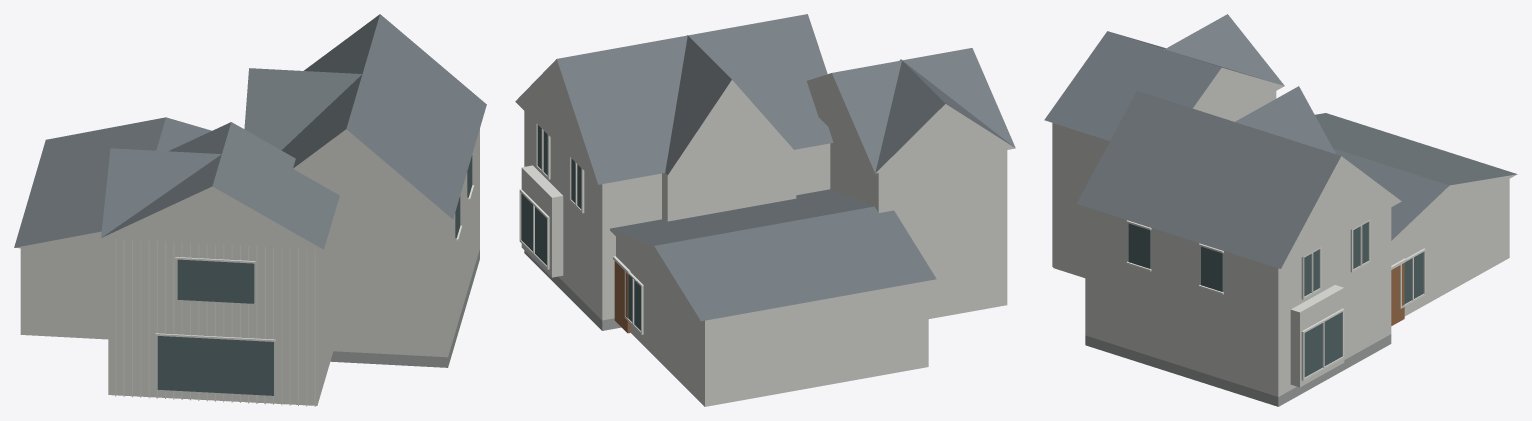
The model's file is merner-42-john-20261008-study.glb.
3 renders of one model, left to right at view 1: azimuth 30°, elevation 25°; view 2: azimuth 150°, elevation 25°; view 3: azimuth 270°, elevation 25°, orthographic. The views are drawn at different scales.
Parts seen in each view (by area): view 1: 42-john-roof.002, 42-john-wall.002, 42-john-glass.002, 42-john-trim.002, 42-john-foundation.002; view 2: 42-john-roof.002, 42-john-wall.002, 42-john-glass.002, 42-john-trim.002, 42-john-door.002, 42-john-foundation.002; view 3: 42-john-roof.002, 42-john-wall.002, 42-john-glass.002, 42-john-foundation.002, 42-john-trim.002, 42-john-door.002.
Boxes of the visible parts, left/top/right/bottom form: 42-john-roof.002: left=14, top=14, right=486, bottom=252; 42-john-wall.002: left=20, top=129, right=479, bottom=405; 42-john-glass.002: left=157, top=155, right=472, bottom=395; 42-john-trim.002: left=115, top=185, right=474, bottom=406; 42-john-foundation.002: left=330, top=249, right=479, bottom=367; 42-john-roof.002: left=515, top=14, right=1015, bottom=321; 42-john-wall.002: left=521, top=111, right=1007, bottom=406; 42-john-glass.002: left=521, top=125, right=643, bottom=331; 42-john-trim.002: left=519, top=123, right=643, bottom=334; 42-john-door.002: left=614, top=261, right=630, bottom=333; 42-john-foundation.002: left=524, top=250, right=621, bottom=330; 42-john-roof.002: left=1044, top=14, right=1517, bottom=268; 42-john-wall.002: left=1053, top=91, right=1509, bottom=396; 42-john-glass.002: left=1128, top=222, right=1423, bottom=377; 42-john-foundation.002: left=1085, top=334, right=1391, bottom=406; 42-john-trim.002: left=1052, top=123, right=1425, bottom=380; 42-john-door.002: left=1391, top=263, right=1404, bottom=325.
Bounding box in the file's own units: 15.48 × 7.8 × 15.16.
